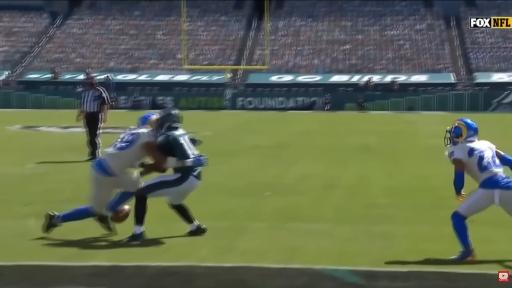Helmet: (445, 119, 478, 146), (155, 108, 183, 133), (137, 113, 158, 127)
Jersey: (102, 128, 155, 173), (448, 141, 504, 183), (156, 129, 199, 160)
Player: (43, 118, 168, 233), (125, 109, 207, 242), (445, 119, 511, 261), (137, 113, 158, 127)
